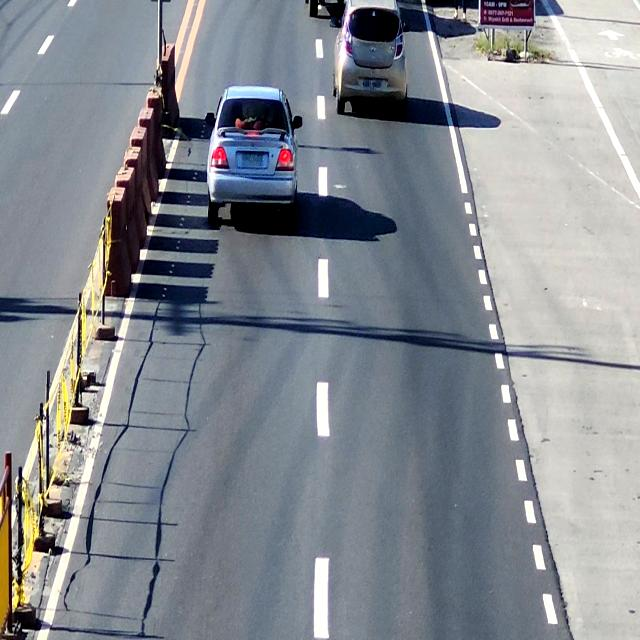Car: (205, 84, 301, 226), (336, 0, 413, 109)
License-Plate: (238, 147, 264, 170), (360, 73, 386, 93)
